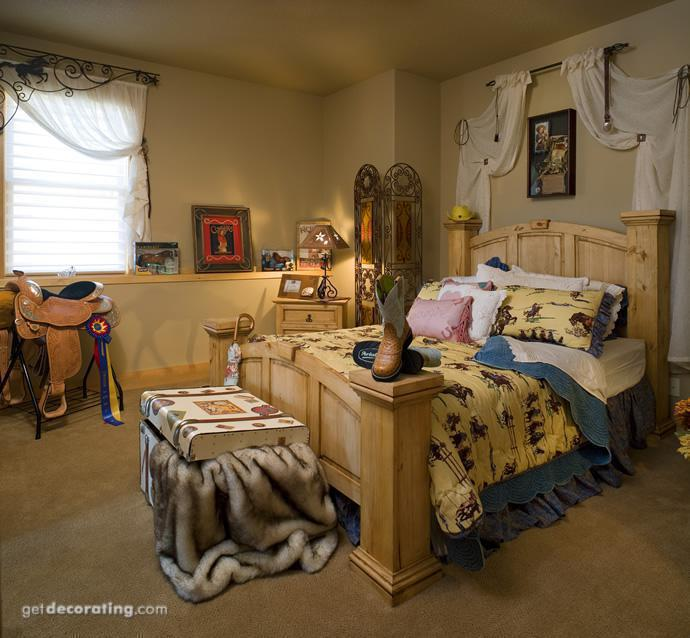Cama: (285, 281, 628, 555)
Otro Obstaculo: (14, 287, 122, 438)
